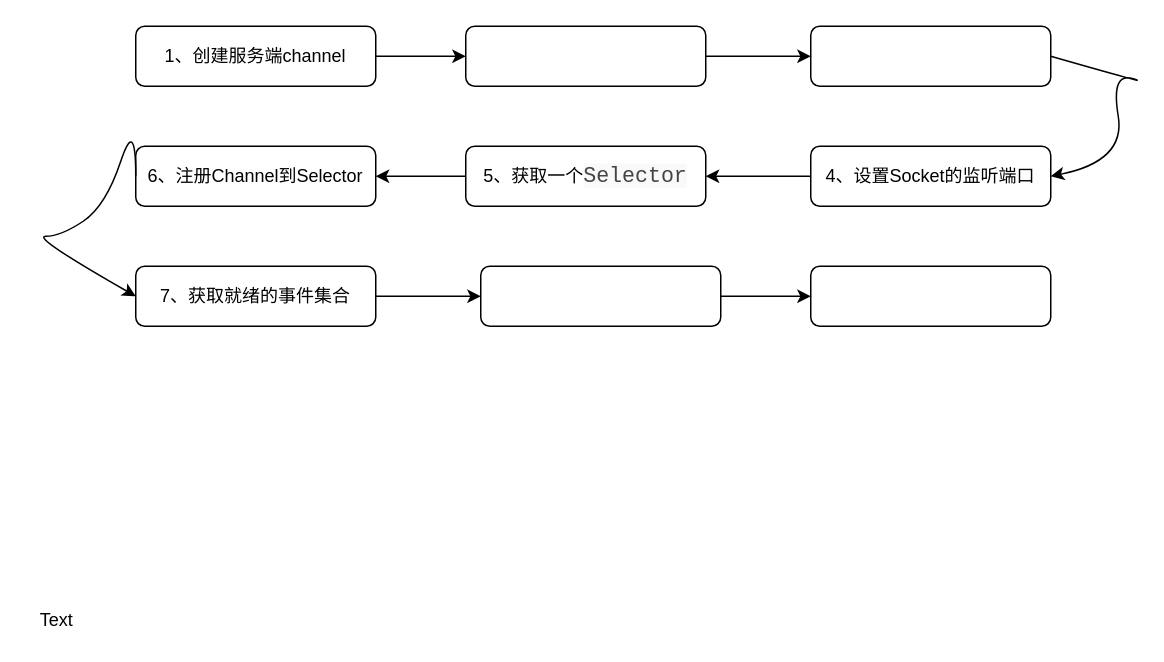
Image size: 1164x662. Some labels were removed from this diagram. The shapes that lost their labels are listed below. From the top down, each one's centre as x and y in pixels, then its label:
At point 585,55: "2、设置为非阻塞".
At point 930,55: "3、关联channel到Socket".
At point 600,295: "8、遍历".
